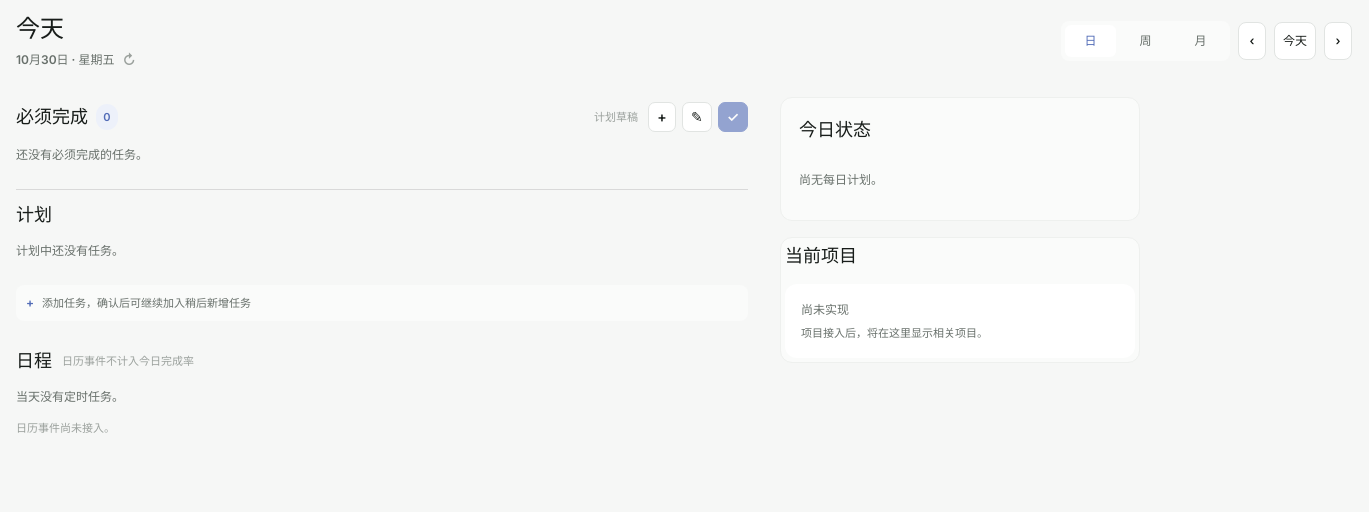
Today Desktop › keeps the add form collapsed by default and preserves input when toggled
Expected: the text "计划草稿" is shown, left=594, top=108, right=638, bottom=126
Step 1. Click the button "+ 添加任务，确认后可继续加入稍后新增任务" → (147, 303), box left=16, top=285, right=748, bottom=321
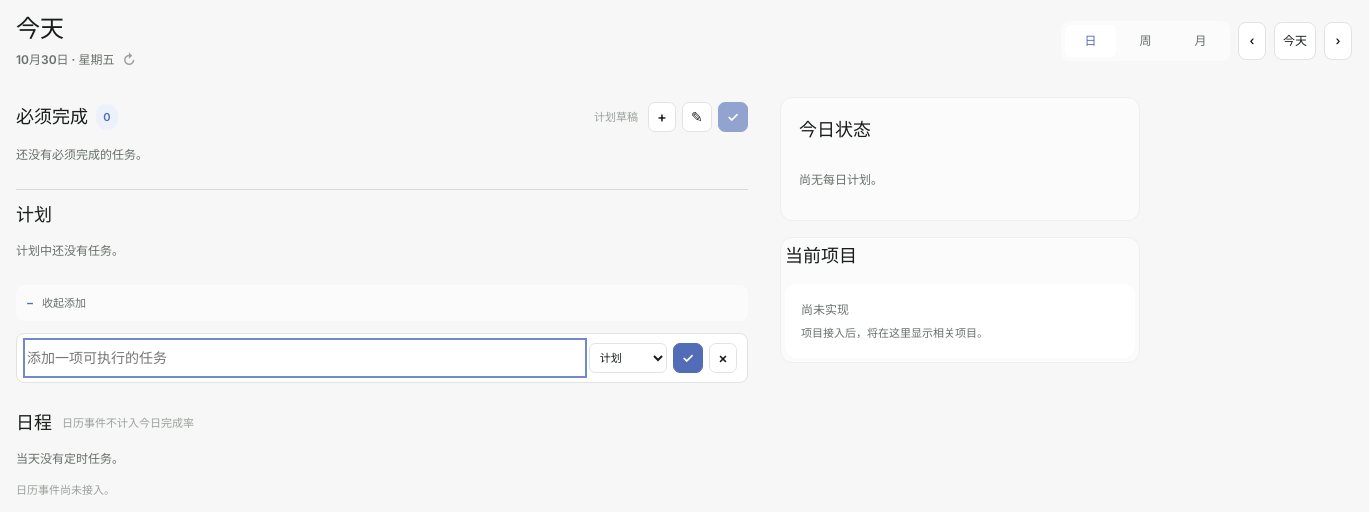
Step 2. Type "Unsubmitted draft" into the field named "任务名称" → (305, 358), box left=27, top=342, right=583, bottom=374
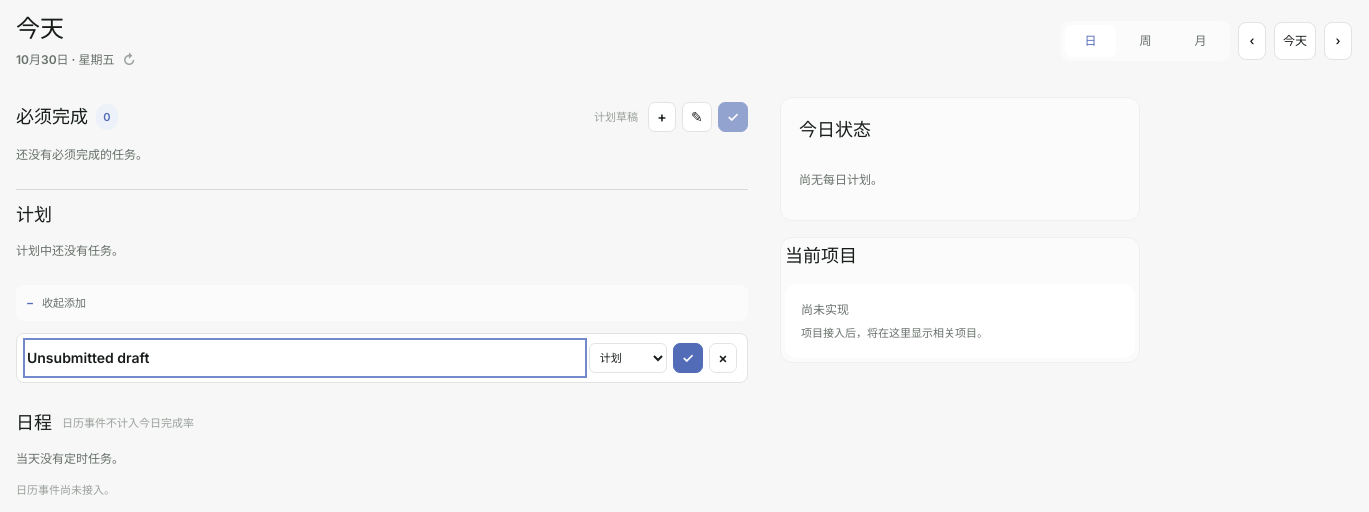
Step 3. Click the button "− 收起添加" → (64, 303), box left=16, top=285, right=748, bottom=321
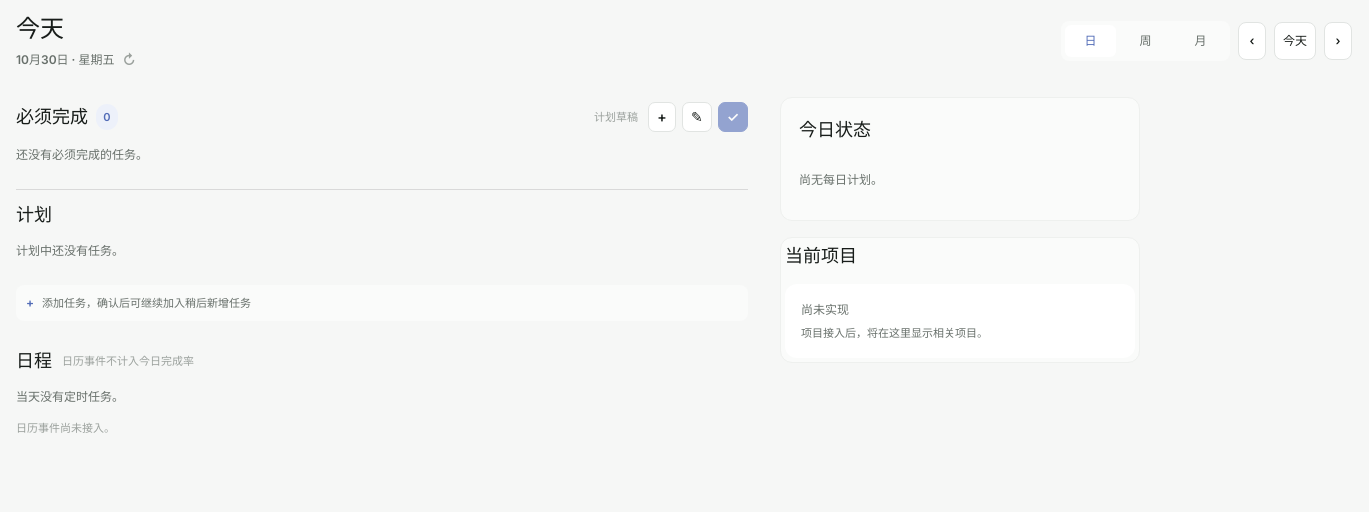
Expected: the field labelled "任务名称" is not shown
Step 4. Click the button "+ 添加任务，确认后可继续加入稍后新增任务" → (147, 303), box left=16, top=285, right=748, bottom=321
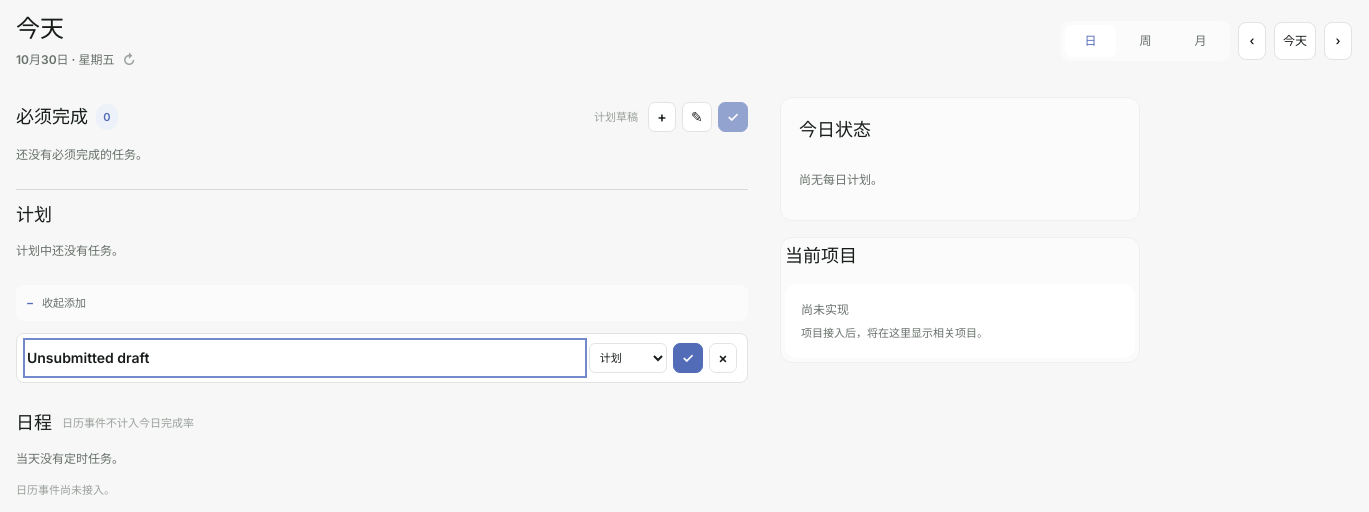
Expected: the button named "确认今日计划" is disabled, left=718, top=102, right=748, bottom=132
Expected: the field named "任务名称" holds "Unsubmitted draft", left=27, top=342, right=583, bottom=374
